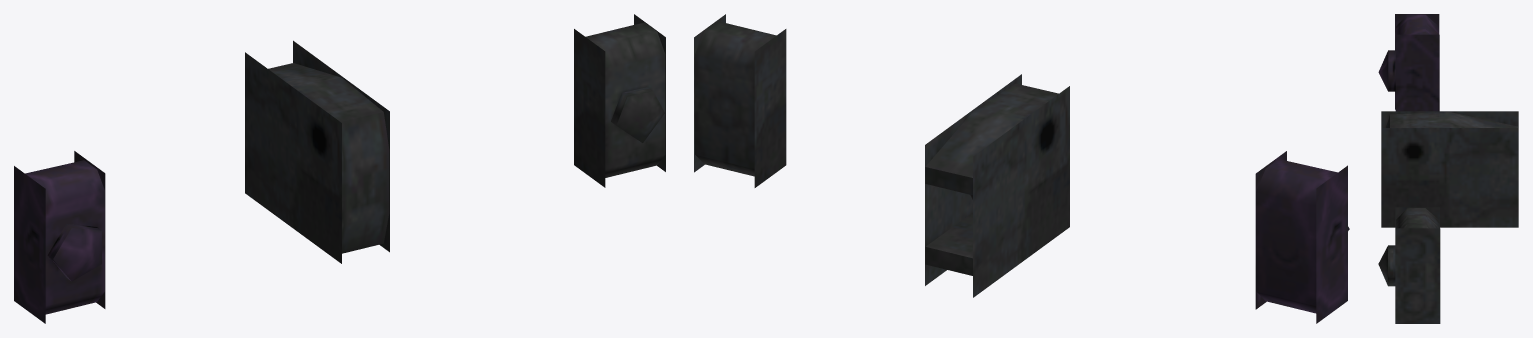
3 renders of one model, left to right at view 1: azimuth 30°, elevation 25°; view 2: azimuth 150°, elevation 25°; view 3: azimuth 270°, elevation 25°, orthographic. The views are drawn at different scales.
Visible parts, largest first — view 1: set_0_group_0; view 2: set_0_group_0; view 3: set_0_group_0.
Boxes of the visible parts, x1,y1,x2,y2 form: set_0_group_0: (14, 14, 665, 323); set_0_group_0: (694, 14, 1349, 323); set_0_group_0: (1378, 14, 1518, 323).
Bounding box in the file's own units: 0.6284 × 0.1365 × 0.1738.
Materials: 1 (1 with a texture image).
